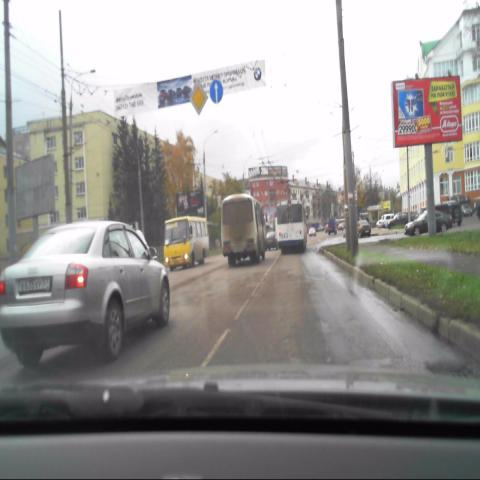4_1_1: (209, 79, 223, 104)
